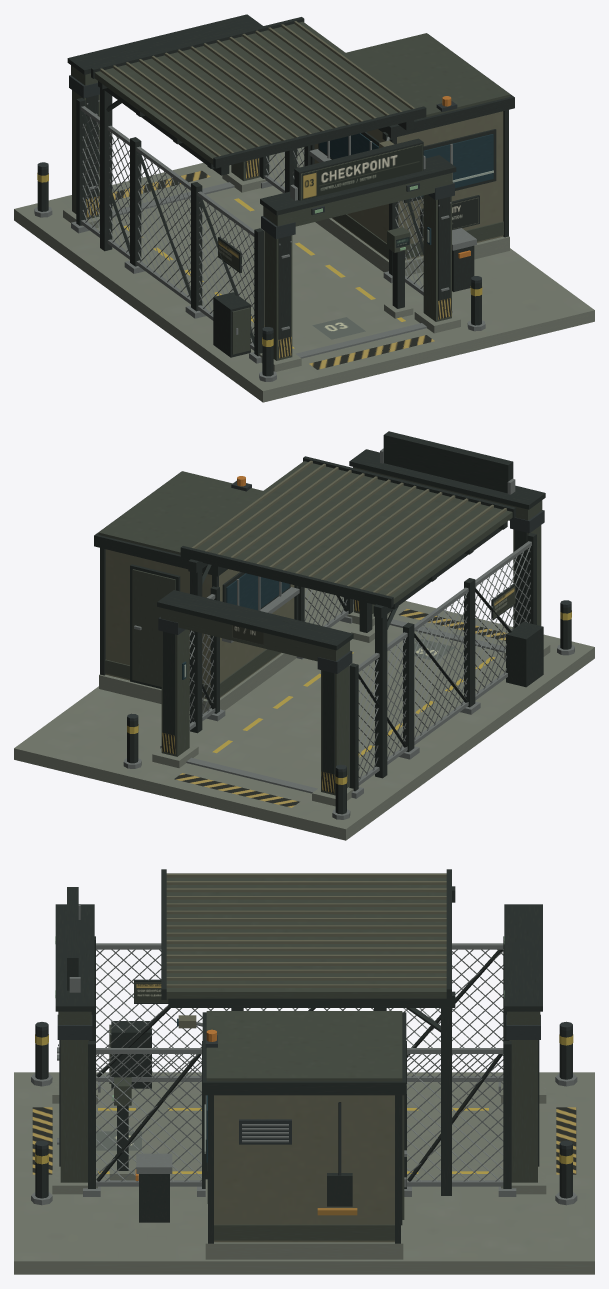
File: MetalSteezy_SasControle.fbx
The picture shows the model from 3 angles, top to bottom: view 1: azimuth 30°, elevation 25°; view 2: azimuth 150°, elevation 25°; view 3: azimuth 270°, elevation 25°; orthographic projection. The views are drawn at different scales.
Visible parts, largest first — view 1: MetalSteezy_SasControle; view 2: MetalSteezy_SasControle; view 3: MetalSteezy_SasControle.
Boxes of the visible parts, x1,y1,x2,y2 form: MetalSteezy_SasControle: [14, 14, 594, 402]; MetalSteezy_SasControle: [14, 431, 594, 840]; MetalSteezy_SasControle: [14, 869, 594, 1274].
Size of what is drawn, in the model's own units: 6.1 by 7.9 by 3.48.
Materials: 1 (1 with a texture image).
